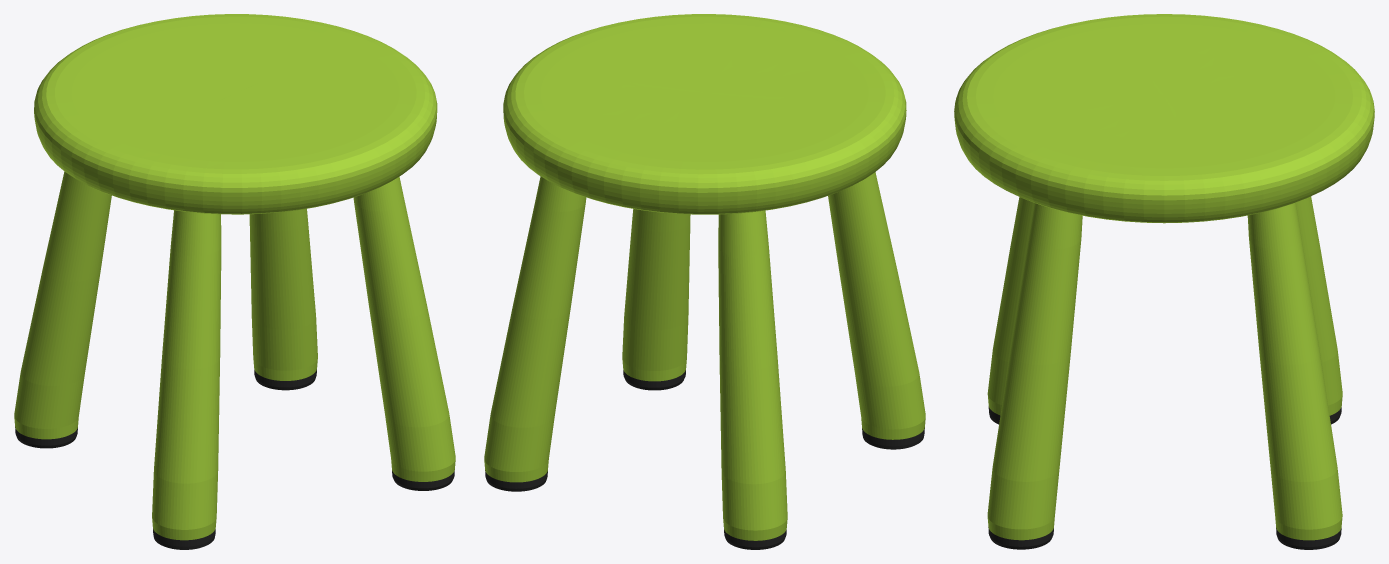
The model's file is sh-bsby-green-stool.glb.
3 views of the same model, side by side, from view 1: azimuth 30°, elevation 25°; view 2: azimuth 150°, elevation 25°; view 3: azimuth 270°, elevation 25° (orthographic). The views are drawn at different scales.
Parts seen in each view (by area): view 1: Circle.001; view 2: Circle.001; view 3: Circle.001.
Boxes of the visible parts, x1,y1,x2,y2 form: Circle.001: (14,14,455,549); Circle.001: (484,14,925,549); Circle.001: (954,14,1374,549).
Size of the model in its own units: 1 by 1 by 1.
